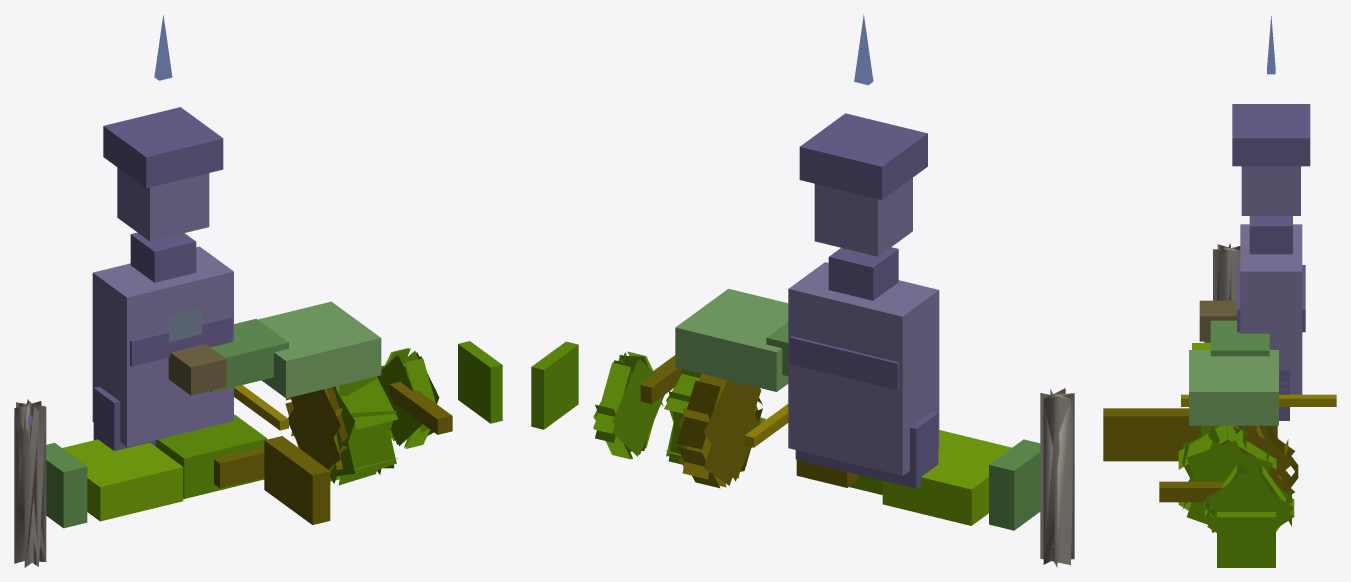
Rendered from uesugi-10.glb.
3 renders of one model, left to right at view 1: azimuth 30°, elevation 25°; view 2: azimuth 150°, elevation 25°; view 3: azimuth 270°, elevation 25°, orthographic. The views are drawn at different scales.
Parts seen in each view (by area): view 1: samurai; view 2: samurai; view 3: samurai.
Part boxes in pixels (x1,y1,x2,y2): samurai: [14, 15, 502, 567]; samurai: [531, 14, 1074, 567]; samurai: [1103, 16, 1336, 567].
Size of the model in its own units: 1.62 by 1.58 by 0.75.
